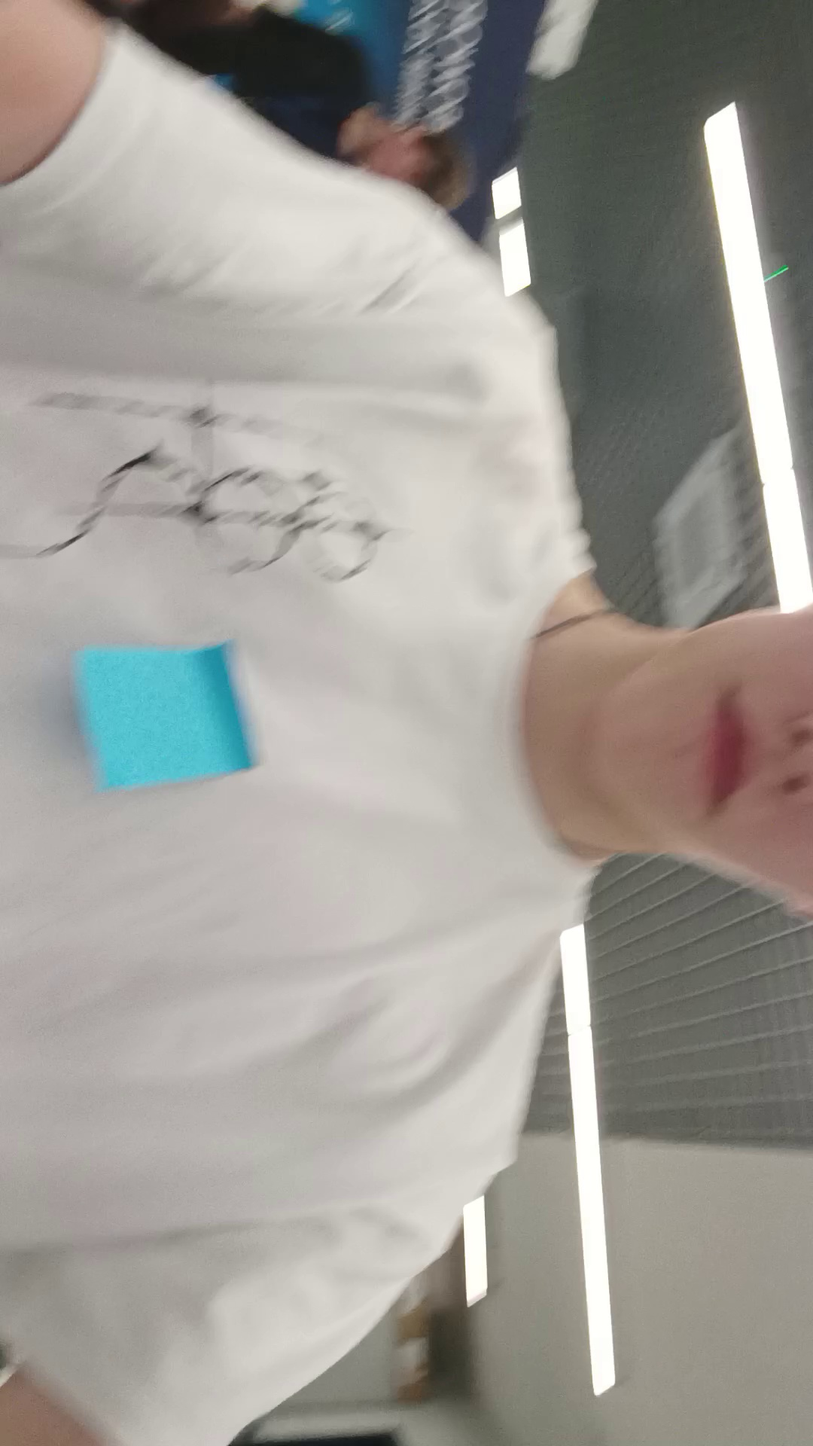marker: (92, 647, 250, 784), (297, 0, 380, 42), (219, 78, 228, 81)
